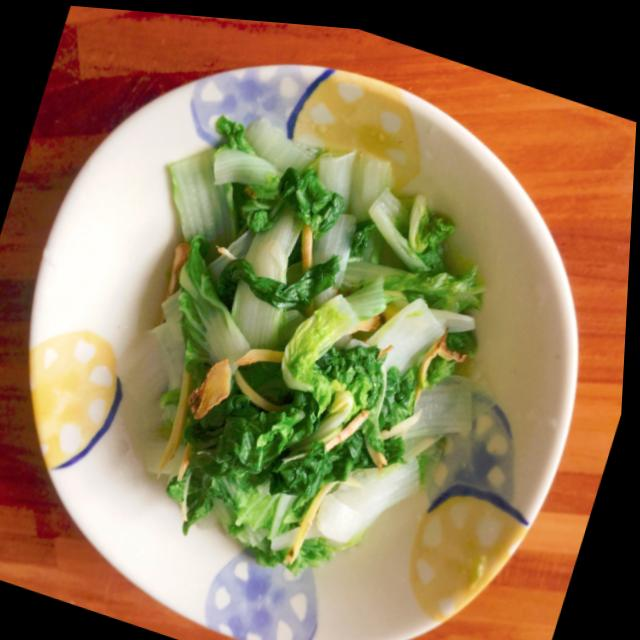chinese_cabbage: (64, 113, 503, 640)
